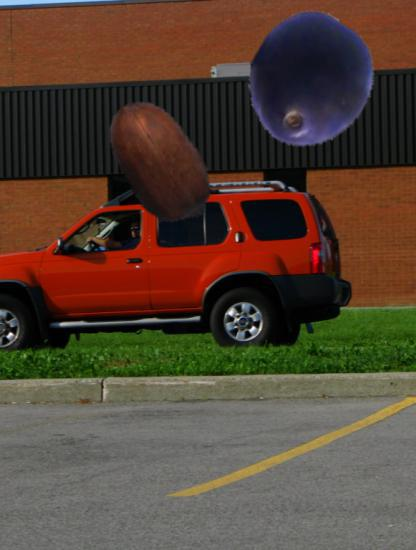Nut: (93, 93, 230, 230)
Plum: (241, 12, 379, 150)
